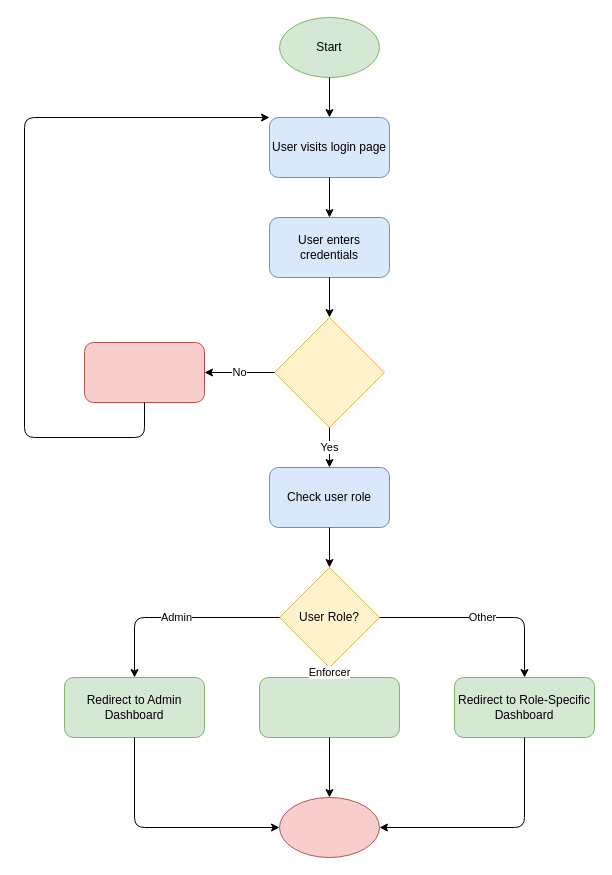
Some shapes in this 612 by 875 pixel diagram are drawn without their labels. The shapes that lost their labels are listed below. From the top down, each one's box as (x1, y1, x2, y2) in pixels, then its label:
(84, 342, 204, 402): Show error message
(274, 316, 384, 428): Valid credentials?
(258, 676, 400, 738): Redirect to Enforcer Dashboard
(278, 796, 380, 858): End
